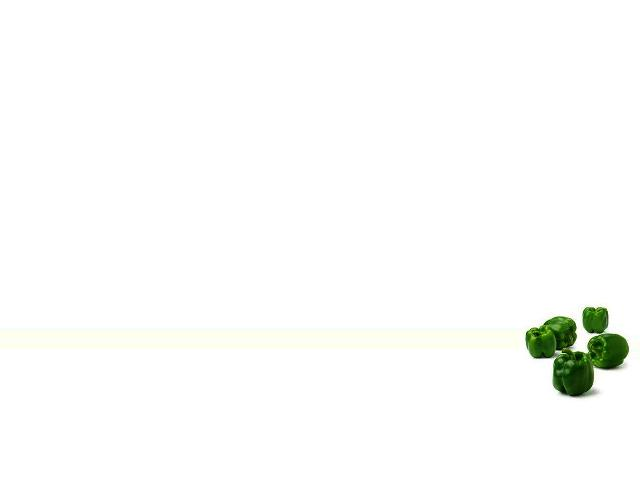bell_pepper: (525, 327, 558, 362)
